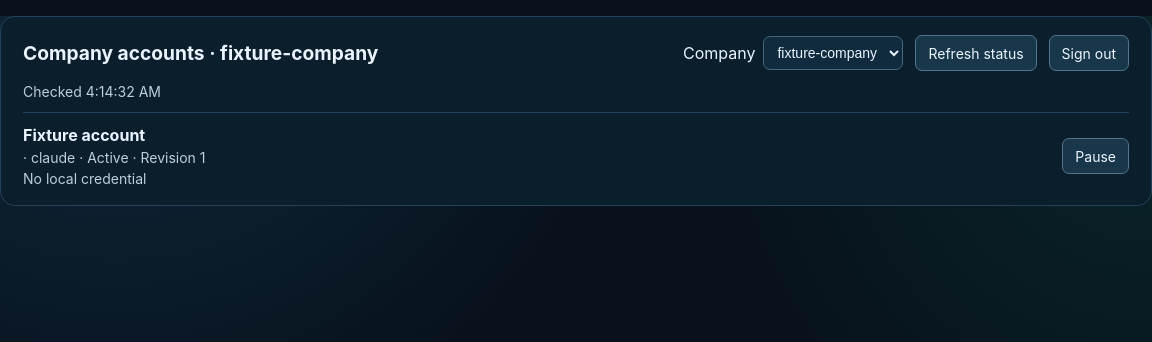
Test case: company accounts › retries a pause with the same request and revision after a transport error
Click the button "Pause": (1096, 156) [1062, 138, 1129, 174]
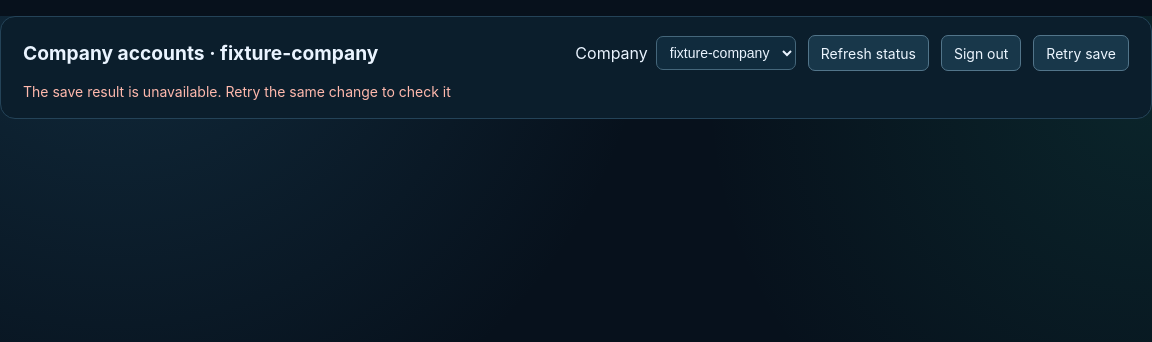
expect the text "Fixture account" is gone: met
Click the button "Retry save": (1081, 53) [1033, 35, 1129, 71]
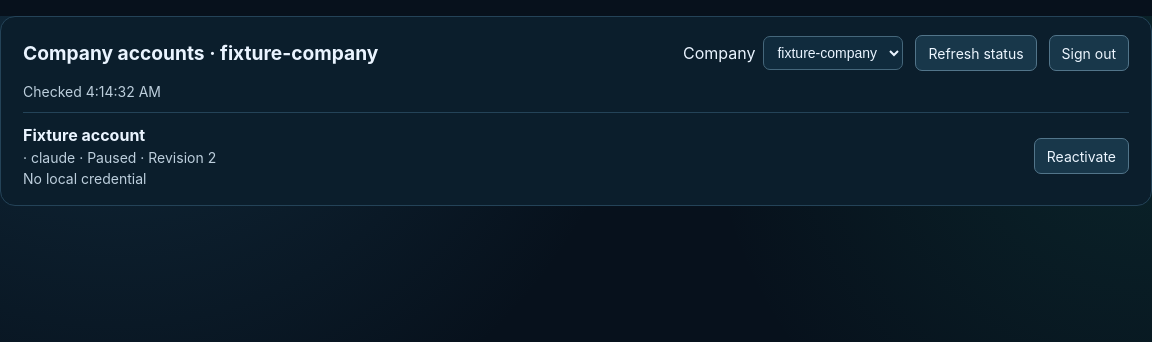
expect the text "Paused" is shown: met, box [87, 149, 136, 166]
expect the text "Retry save" is gone: met
